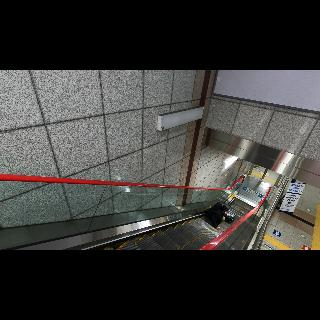anomaly: (202, 202, 230, 232)
